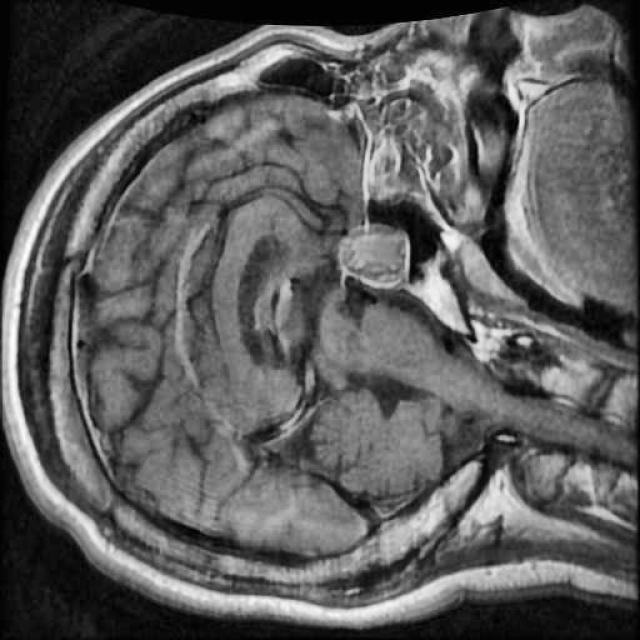Tumor: (328, 214, 421, 298)
